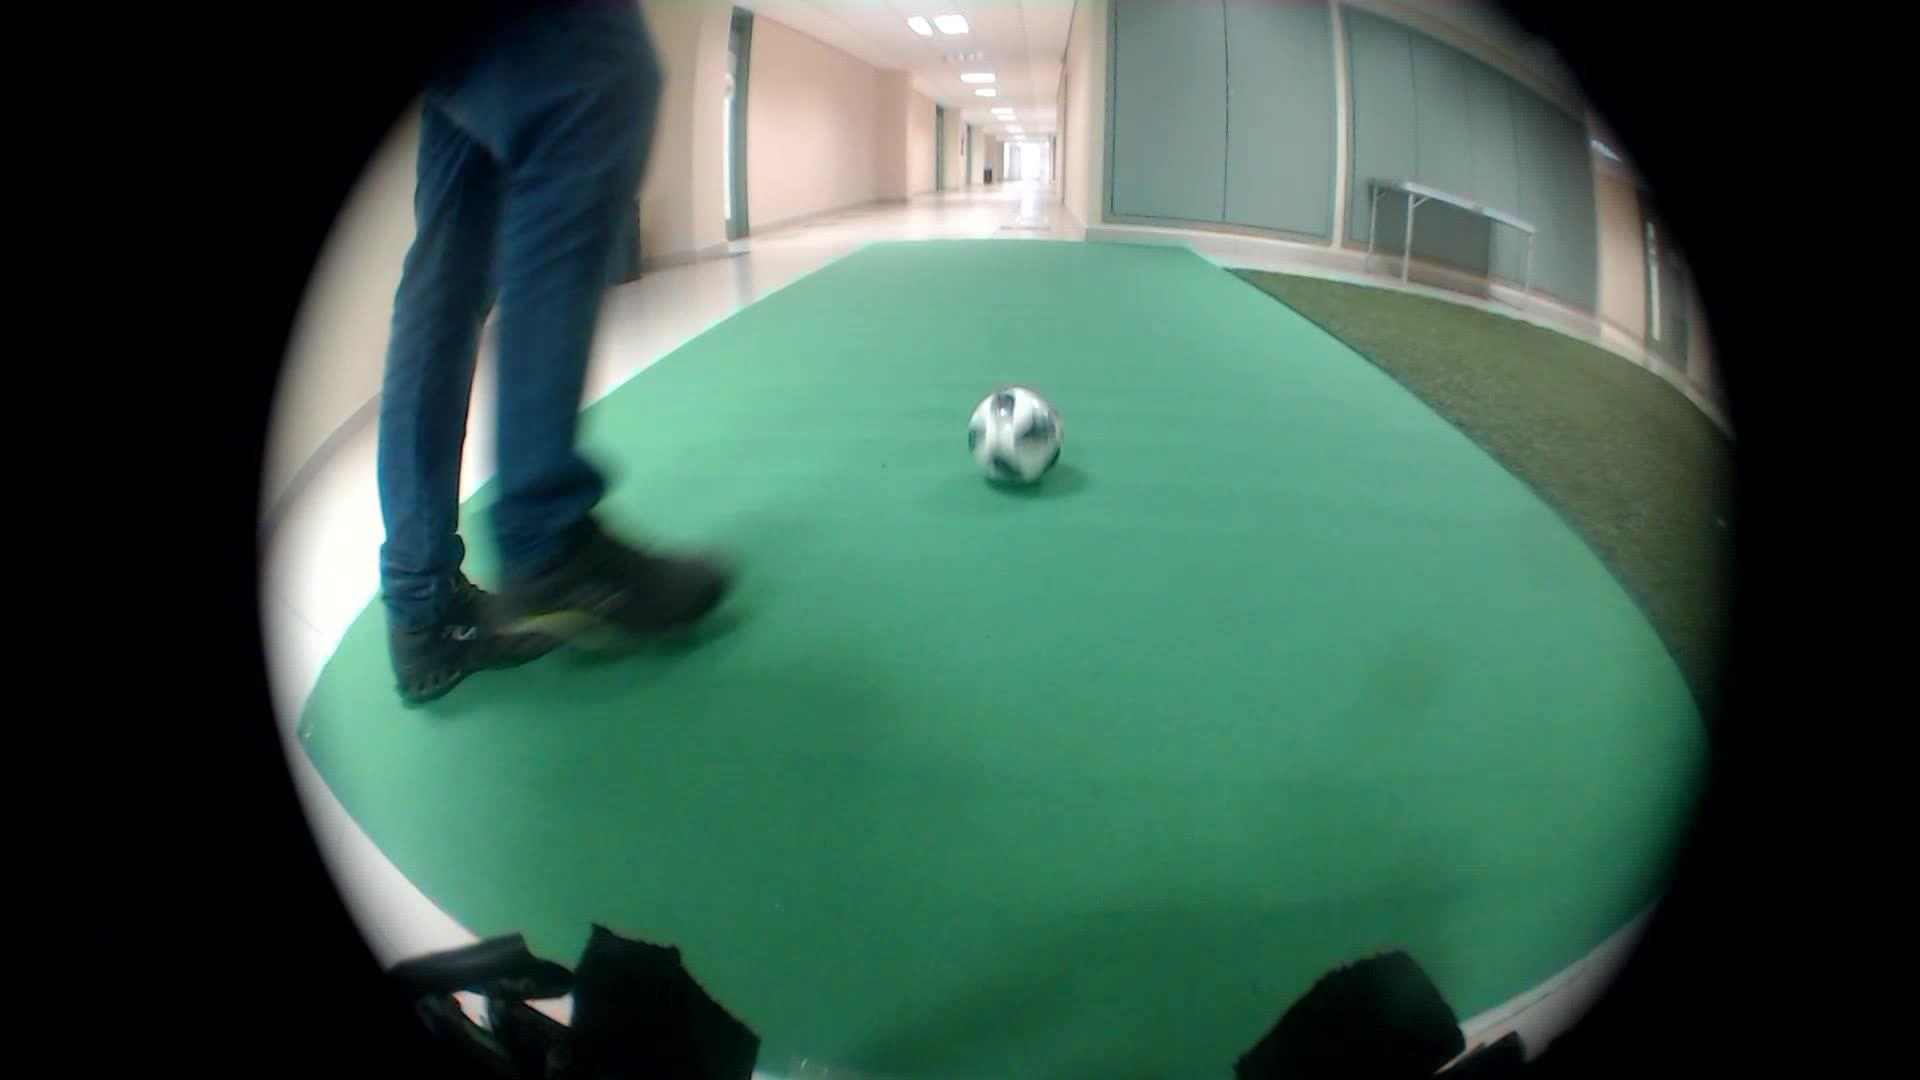ball: (944, 367, 1083, 498)
